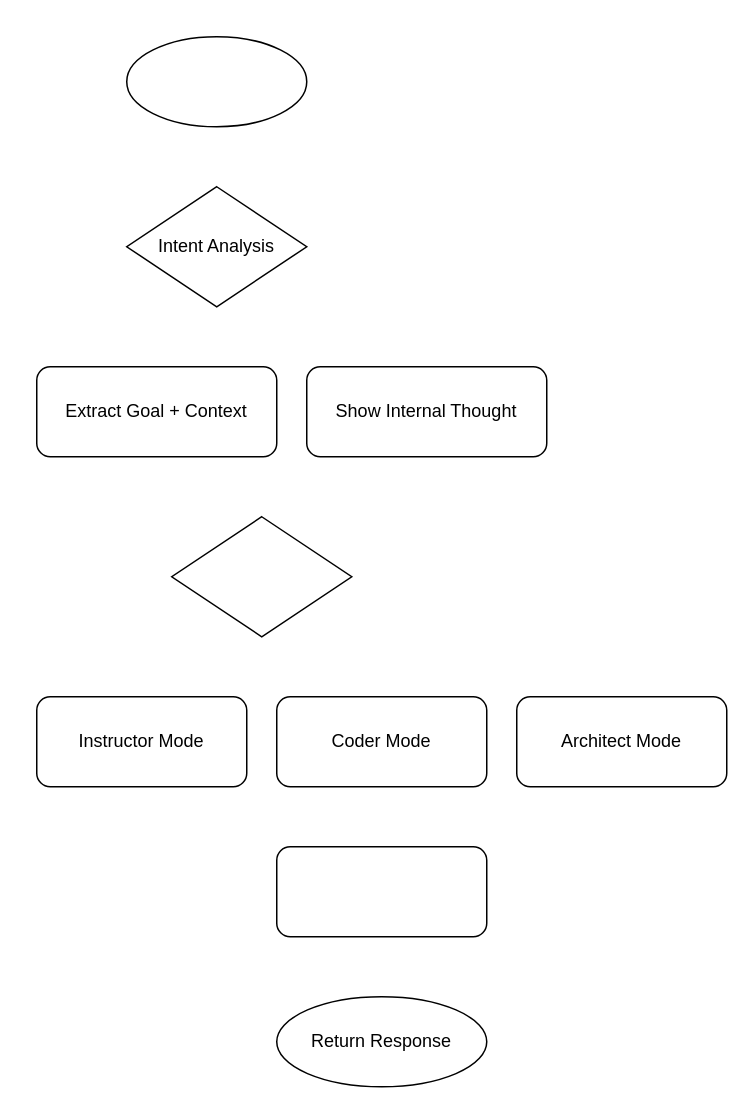
This 753x1113 diagram has some shape labels left out. Here are the shapes that lost their labels. From the top down, the box of each, then its label:
(125, 35, 307, 127): User Input
(170, 515, 352, 637): Select Mode
(275, 845, 487, 937): Format Output
